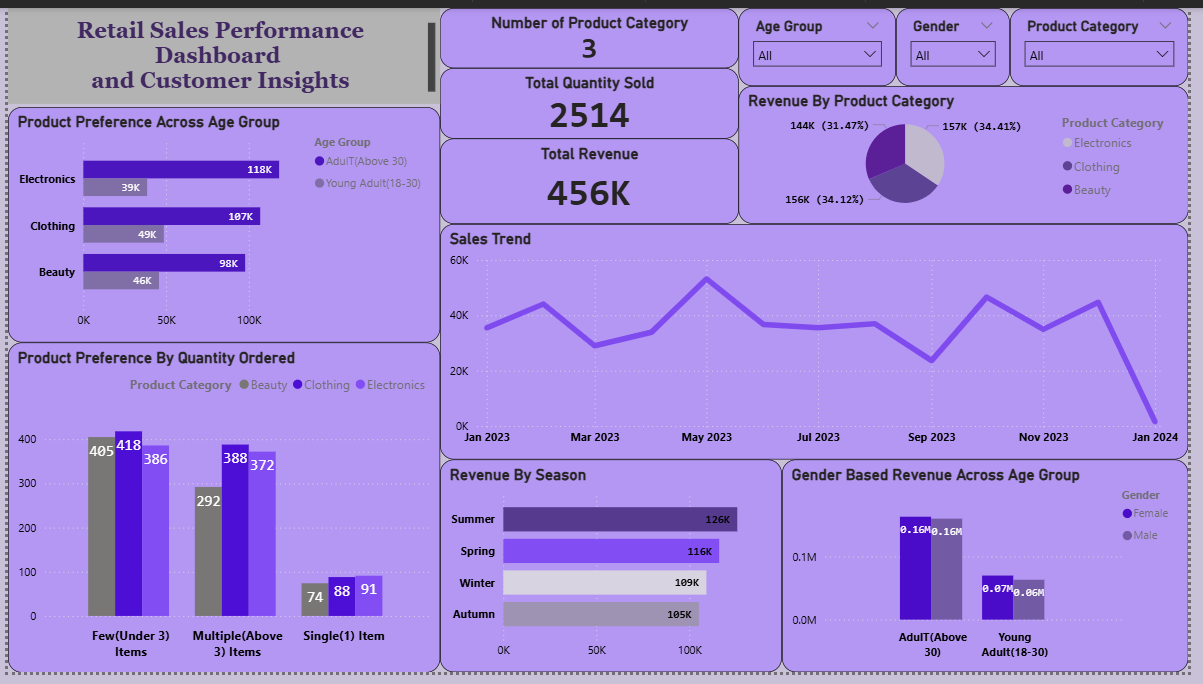

The dashboard page shown, as its layout file describes it:
{"tool":"powerbi","page":{"name":"SALE DASHBOARD","canvas":[1280,720],"ordinal":0},"visuals":[{"type":"card","title":"Number of Product Category","fields":{"Values":["retail_sales_dataset.Number of Categories"]},"box":[468.4,0,323.7,65.1],"z":0},{"type":"card","title":"Total Quantity Sold","fields":{"Values":["retail_sales_dataset.TOTAL QUANTITY SOLD"]},"box":[468.4,65.1,323.7,76.4],"z":1000},{"type":"card","title":"Total Revenue","fields":{"Values":["retail_sales_dataset.TOTAL REVENUE"]},"box":[468.4,141.5,323.7,92.7],"z":2000},{"type":"clusteredColumnChart","title":"Gender Based Revenue Across Age Group","fields":{"Category":["retail_sales_dataset.Age Group"],"Y":["retail_sales_dataset.TOTAL REVENUE"],"Series":["retail_sales_dataset.Gender"]},"box":[839.3,489.6,440.8,231],"z":3000},{"type":"lineChart","title":"Sales Trend","fields":{"Category":["Date.Date.Variation.Date Hierarchy.Year","Date.Date.Variation.Date Hierarchy.Quarter","Date.Date.Variation.Date Hierarchy.Month","Date.Date.Variation.Date Hierarchy.Day"],"Y":["retail_sales_dataset.TOTAL REVENUE"]},"box":[468.4,234.2,811.6,255.4],"z":4000},{"type":"pieChart","title":"Revenue By Product Category","fields":{"Y":["retail_sales_dataset.TOTAL REVENUE"],"Category":["Product Category.Product Category"]},"box":[792.1,84.6,488,149.6],"z":5000},{"type":"clusteredBarChart","title":"Product Preference Across Age Group","fields":{"Category":["Product Category.Product Category"],"Y":["retail_sales_dataset.TOTAL REVENUE"],"Series":["retail_sales_dataset.Age Group"]},"box":[0,107.4,468.4,255.4],"z":6000},{"type":"clusteredBarChart","title":"Revenue By Season","fields":{"Category":["retail_sales_dataset.SeasonII"],"Y":["retail_sales_dataset.TOTAL REVENUE"]},"box":[468.4,489.6,370.9,231],"z":7000},{"type":"clusteredColumnChart","title":"Product Preference By Quantity Ordered","fields":{"Category":["retail_sales_dataset.Quantity Group"],"Series":["Product Category.Product Category"],"Y":["Sum(retail_sales_dataset.Quantity)"]},"box":[0,362.7,468.4,357.8],"z":8000},{"type":"slicer","title":"Product Category","fields":{"Values":["Product Category.Product Category"]},"box":[1086.5,0,193.6,84.6],"z":9000},{"type":"slicer","title":"Product Category","fields":{"Values":["retail_sales_dataset.Gender"]},"box":[962.9,0,123.6,84.6],"z":10000},{"type":"slicer","title":"Product Category","fields":{"Values":["retail_sales_dataset.Age Group"]},"box":[792.1,0,170.8,84.6],"z":11000},{"type":"textbox","box":[0,0,468.4,104.1],"z":12000}]}

Visuals, with their boxes in screenshot pixels (x1, y1, x2, y2), scaled from the page's 1280x720 canvas onto the 1203x684 screenshot:
"Number of Product Category" card: (x1=440, y1=0, x2=744, y2=62)
"Total Quantity Sold" card: (x1=440, y1=62, x2=744, y2=134)
"Total Revenue" card: (x1=440, y1=134, x2=744, y2=222)
"Gender Based Revenue Across Age Group" clusteredColumnChart: (x1=789, y1=465, x2=1202, y2=683)
"Sales Trend" lineChart: (x1=440, y1=222, x2=1202, y2=465)
"Revenue By Product Category" pieChart: (x1=744, y1=80, x2=1202, y2=222)
"Product Preference Across Age Group" clusteredBarChart: (x1=0, y1=102, x2=440, y2=345)
"Revenue By Season" clusteredBarChart: (x1=440, y1=465, x2=789, y2=683)
"Product Preference By Quantity Ordered" clusteredColumnChart: (x1=0, y1=345, x2=440, y2=683)
"Product Category" slicer: (x1=1021, y1=0, x2=1202, y2=80)
"Product Category" slicer: (x1=905, y1=0, x2=1021, y2=80)
"Product Category" slicer: (x1=744, y1=0, x2=905, y2=80)
textbox: (x1=0, y1=0, x2=440, y2=99)
